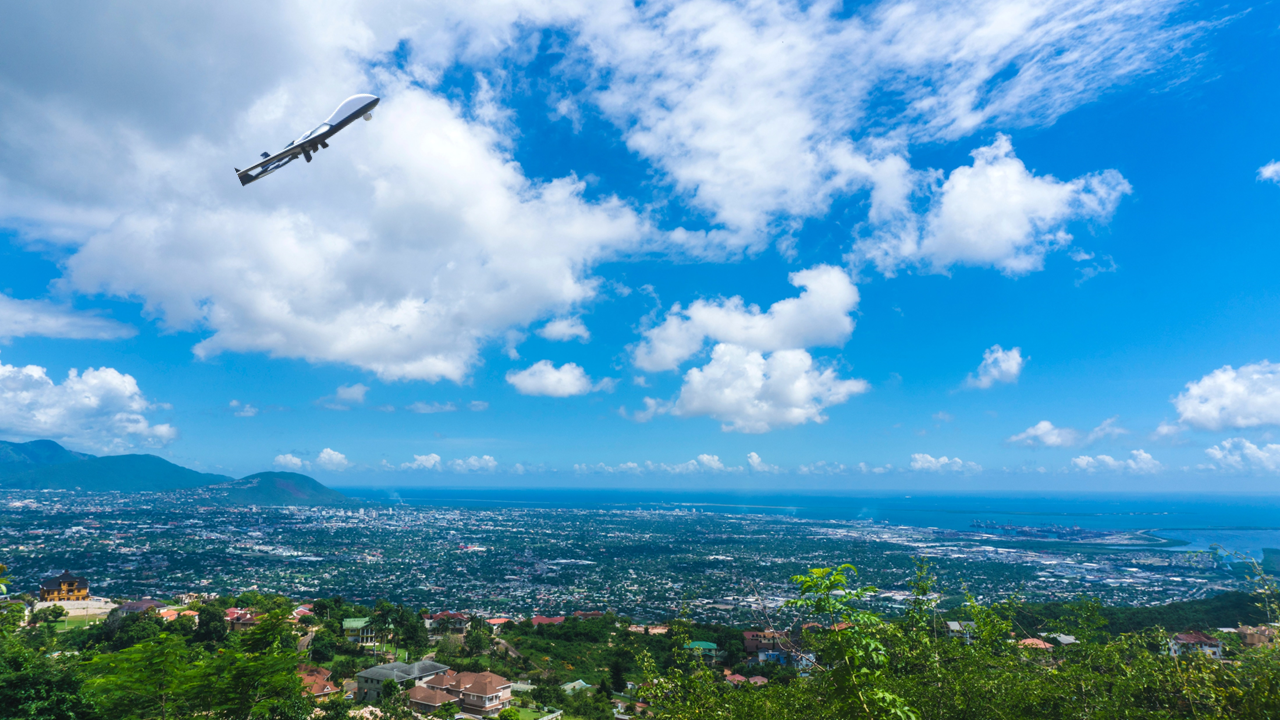military drone: (233, 93, 380, 186)
